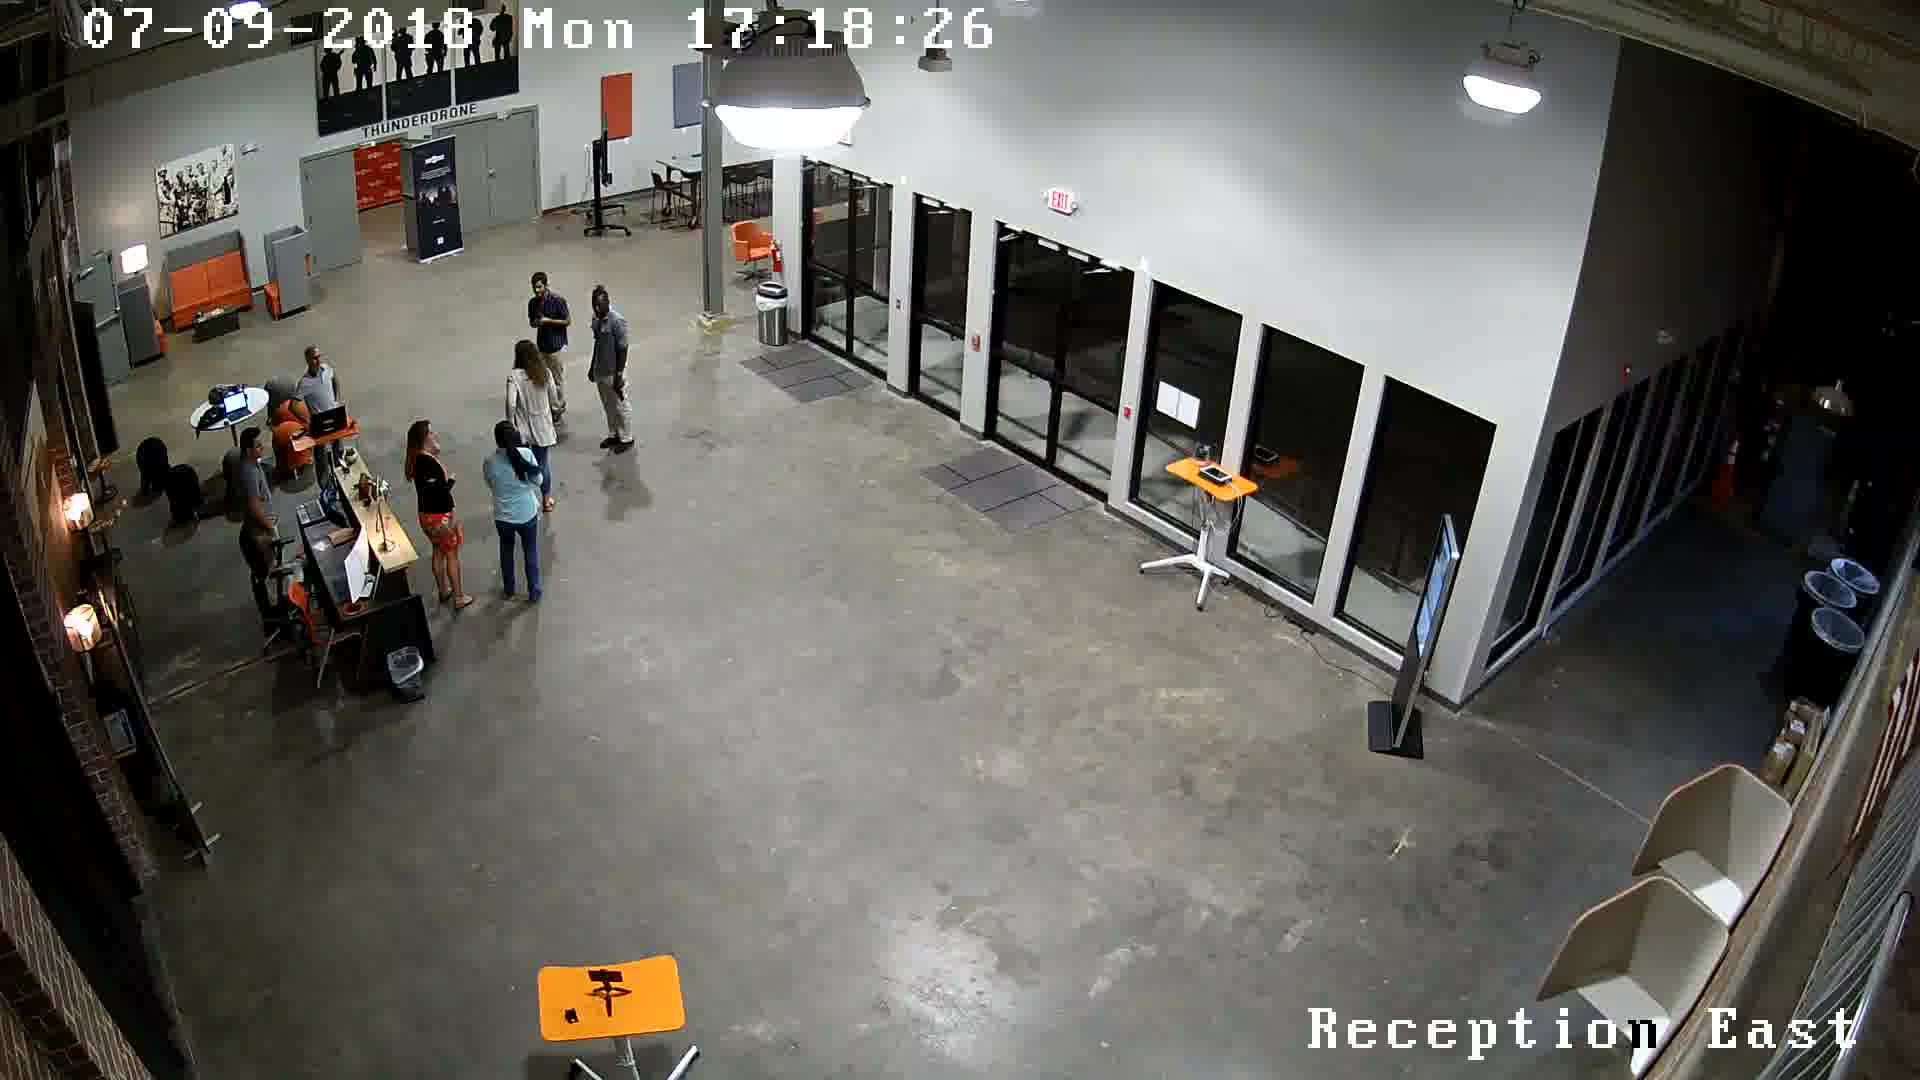pistol: (521, 310, 566, 334)
